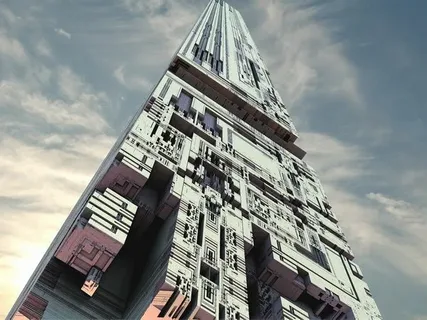high_rise_building: (192, 1, 326, 307)
